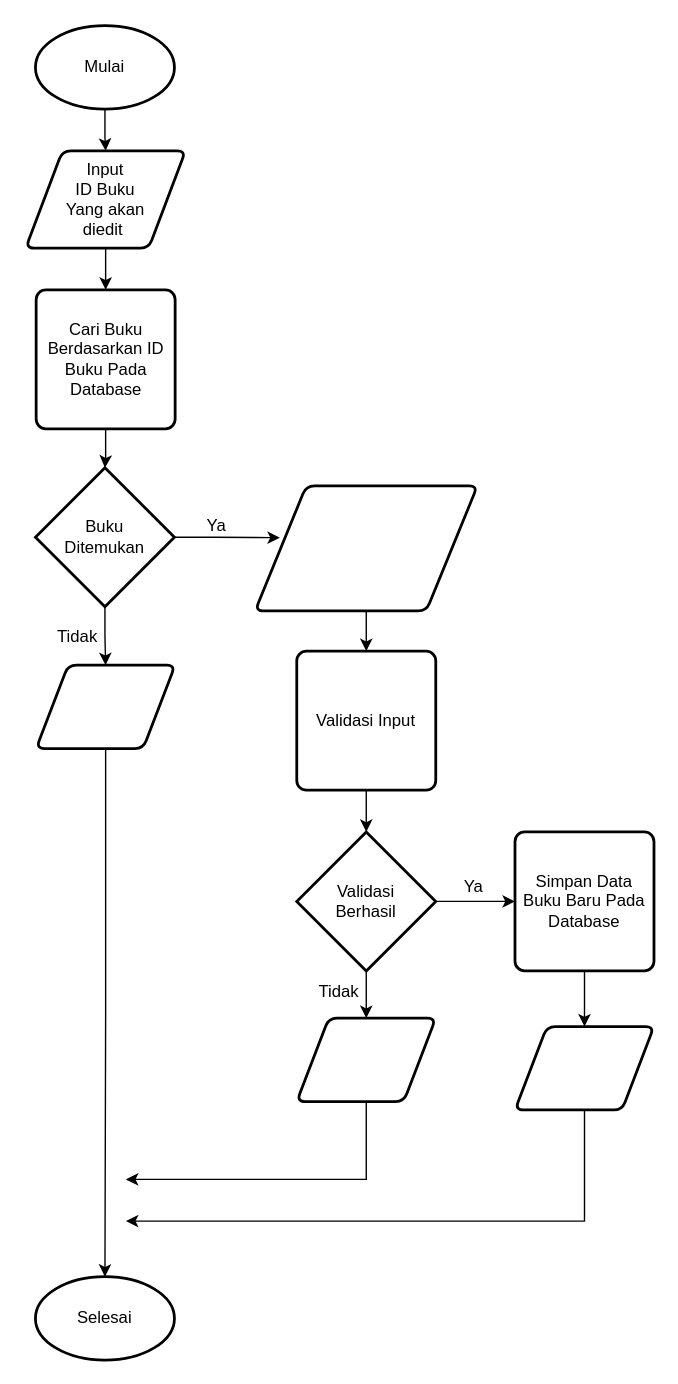
Image size: 678x1384. Some labels were removed from this diagram. The centre of each missing label's shape, as x and y in pixels:
Buku Berhasil DIperbarui: pixel 584 1067
Buku Tidak DItemukan: pixel 105 706
Input Data Buku Baru (Judul, Rak, Penulis, Penerbit, Tahun): pixel 365 548
Input TIdak Sesuai: pixel 365 1059
